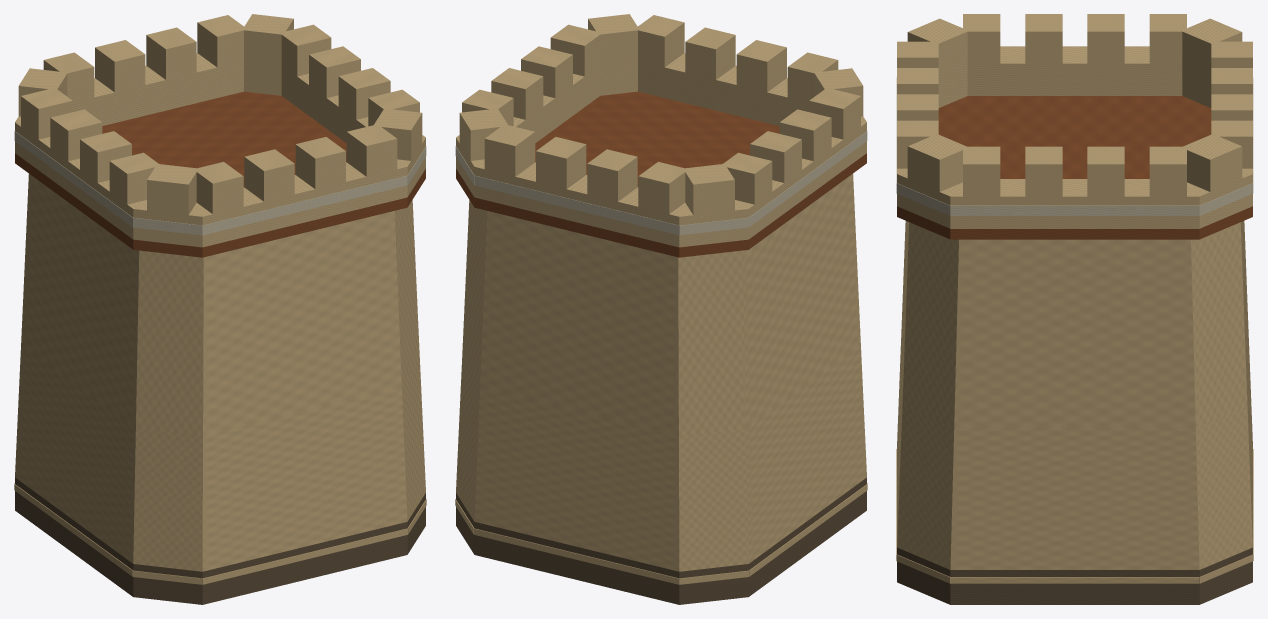
Rendered from Berber_Bastion_Age3_default.fbx.
3 views of the same model, side by side, from view 1: azimuth 30°, elevation 25°; view 2: azimuth 150°, elevation 25°; view 3: azimuth 270°, elevation 25° (orthographic). The views are drawn at different scales.
Parts seen in each view (by area): view 1: default_battered_upper, default_battered_lower, default_continuous_walk_floor, default_stone_foot, default_guard_4_0, default_guard_0_0, default_guard_6_0, default_guard_2_0, default_owner_band_0_0, default_guard_7_0, default_merlon_4_0_2, default_merlon_0_0_3 (+41 smaller); view 2: default_battered_upper, default_battered_lower, default_continuous_walk_floor, default_stone_foot, default_guard_0_0, default_guard_4_0, default_guard_6_0, default_guard_2_0, default_owner_band_4_0, default_guard_5_0, default_merlon_0_0_2, default_merlon_4_0_2 (+41 smaller); view 3: default_battered_upper, default_battered_lower, default_continuous_walk_floor, default_stone_foot, default_guard_6_0, default_guard_2_0, default_owner_band_2_0, default_merlon_3_0_0, default_merlon_1_0_0, default_foundation_bond_2, default_guard_1_0, default_guard_3_0 (+34 smaller).
Part boxes in pixels (x1,y1,x2,y2): default_battered_upper: (21,174,419,436); default_battered_lower: (15,345,425,571); default_continuous_walk_floor: (15,91,425,257); default_stone_foot: (15,477,425,604); default_guard_4_0: (72,53,243,125); default_guard_0_0: (193,159,407,247); default_guard_6_0: (15,122,146,239); default_guard_2_0: (281,65,425,142); default_owner_band_0_0: (202,175,407,235); default_guard_7_0: (133,200,206,247); default_merlon_4_0_2: (95,49,145,92); default_merlon_0_0_3: (346,133,397,176); default_battered_upper: (462,174,860,436); default_battered_lower: (456,345,866,571); default_continuous_walk_floor: (456,91,866,257); default_stone_foot: (456,477,866,604); default_guard_0_0: (638,53,809,125); default_guard_4_0: (474,161,689,247); default_guard_6_0: (735,121,866,239); default_guard_2_0: (456,65,600,142); default_owner_band_4_0: (474,175,679,235); default_guard_5_0: (675,200,748,247); default_merlon_0_0_2: (685,35,735,79); default_merlon_4_0_2: (587,158,637,201); default_battered_upper: (902,221,1247,427); default_battered_lower: (897,312,1252,569); default_continuous_walk_floor: (897,96,1252,239); default_stone_foot: (897,547,1252,604); default_guard_6_0: (967,46,1182,95); default_guard_2_0: (950,179,1199,228); default_owner_band_2_0: (950,205,1199,215); default_merlon_3_0_0: (1187,147,1242,191); default_merlon_1_0_0: (907,148,962,191); default_foundation_bond_2: (950,577,1199,583); default_guard_1_0: (897,170,962,228); default_guard_3_0: (1187,169,1252,228).
Bounding box in the file's own units: 603 × 820 × 603.
Materials: 4 (4 with a texture image).
